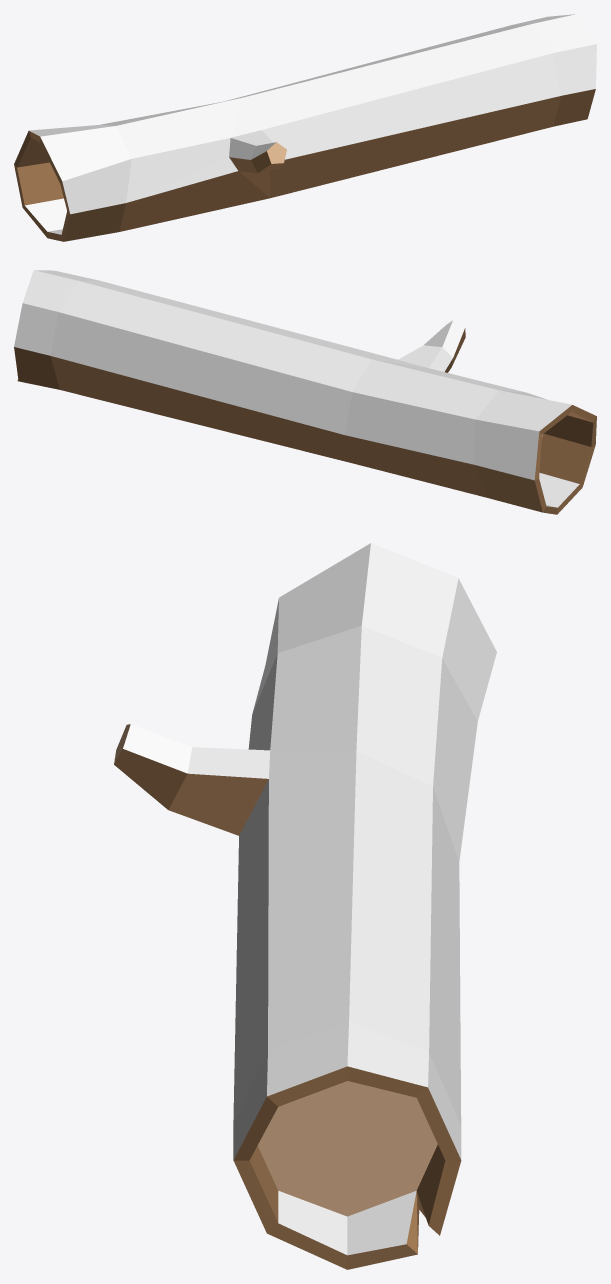
File: Pine_Log_Snow_08.fbx
3 renders of one model, top to bottom at view 1: azimuth 30°, elevation 25°; view 2: azimuth 150°, elevation 25°; view 3: azimuth 270°, elevation 25°, orthographic. The views are drawn at different scales.
Parts seen in each view (by area): view 1: Pine_Log_Snow_08; view 2: Pine_Log_Snow_08; view 3: Pine_Log_Snow_08.
Boxes of the visible parts, box(x1,y1,x2,y2) form: Pine_Log_Snow_08: box(14, 14, 596, 241); Pine_Log_Snow_08: box(14, 270, 596, 514); Pine_Log_Snow_08: box(114, 543, 496, 1269).
Size of the model in its own units: 211 by 41.35 by 65.89.
